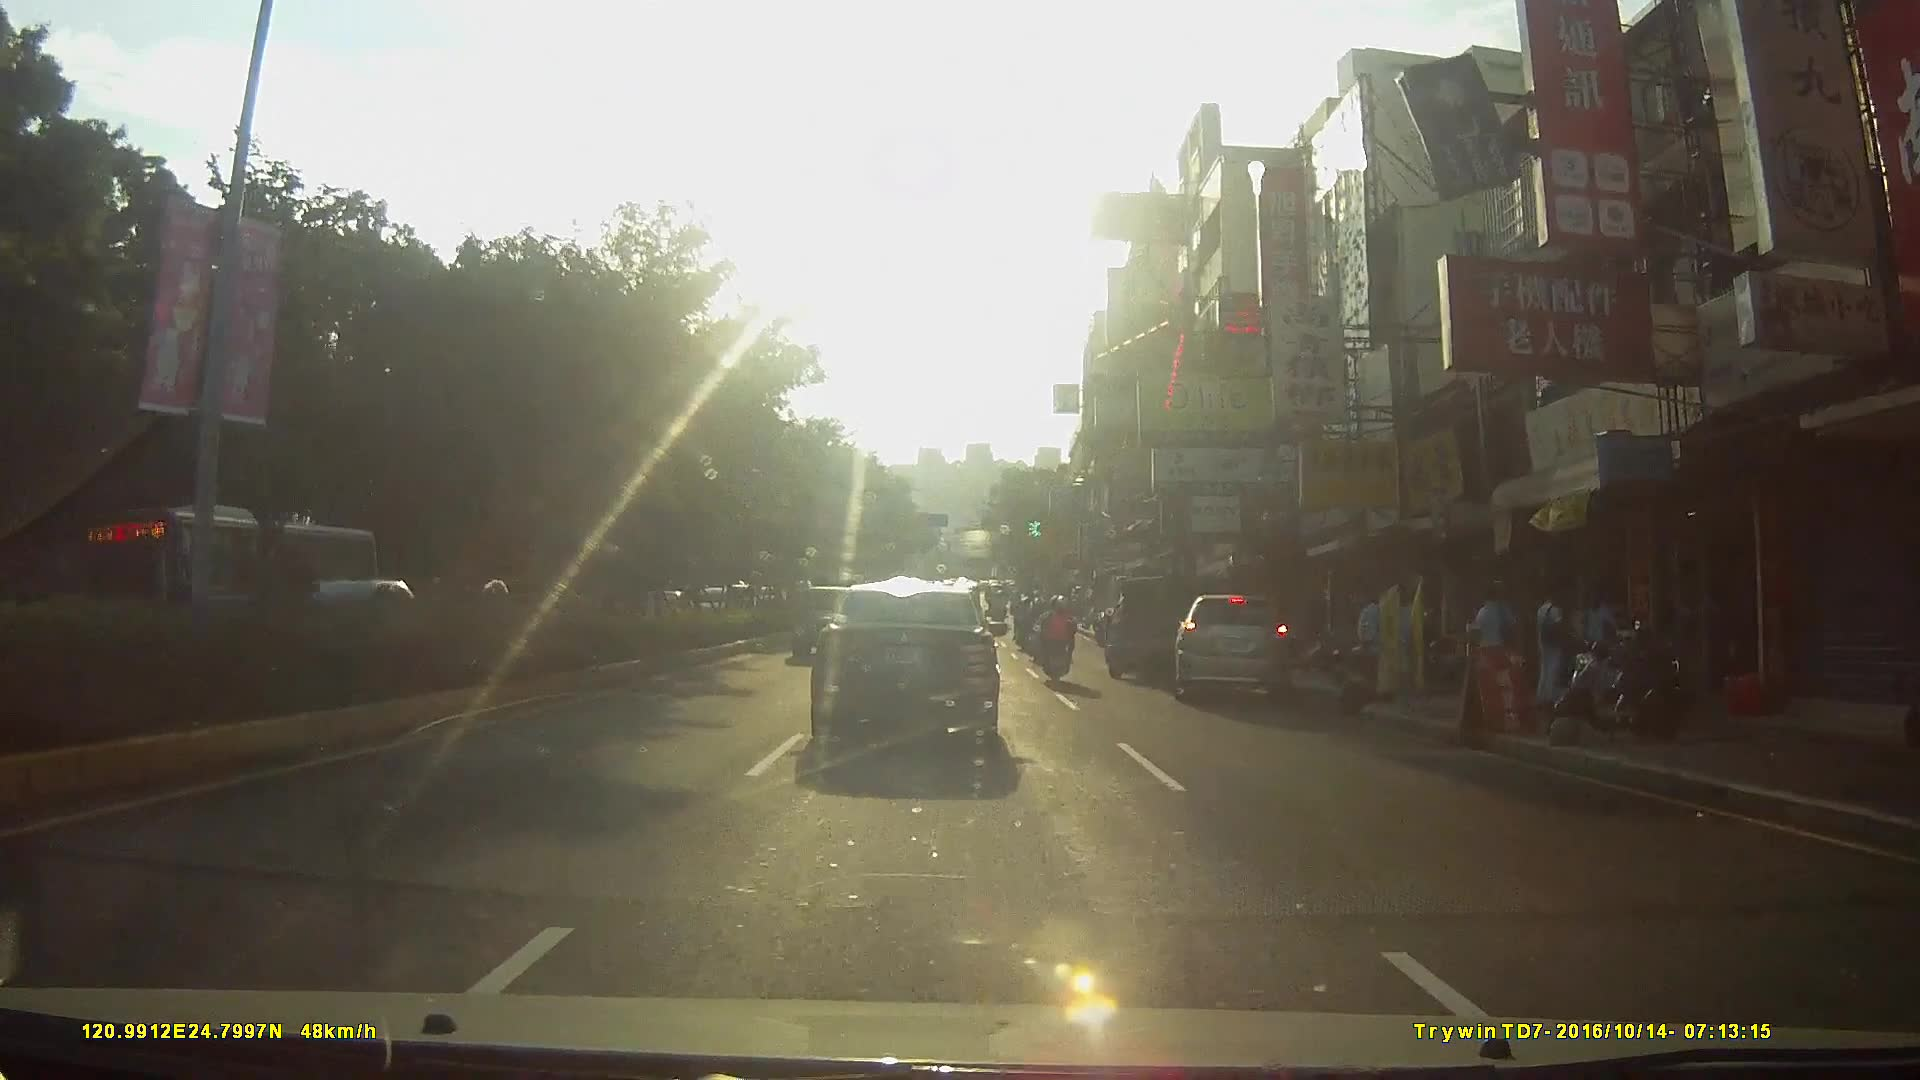pedestrian: (1472, 590, 1518, 708), (1536, 588, 1567, 712), (1582, 586, 1616, 695), (1356, 587, 1391, 684)
rider: (1036, 595, 1080, 692), (1015, 596, 1042, 656)
vehicle: (101, 509, 380, 666), (813, 591, 1029, 772), (1170, 595, 1314, 717), (1099, 571, 1213, 691)
